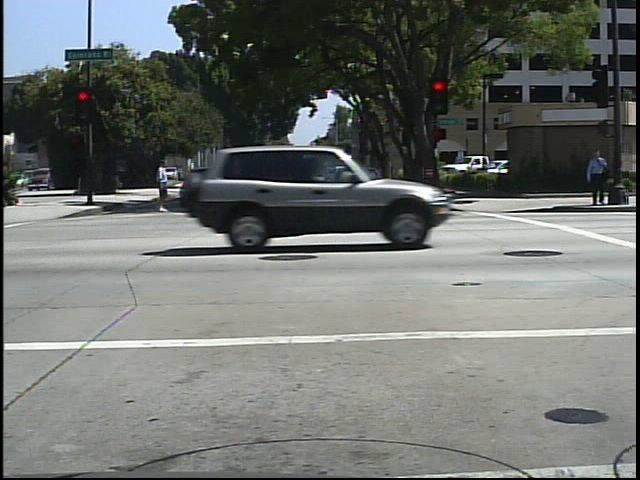person: (145, 155, 179, 219), (585, 143, 610, 209)
